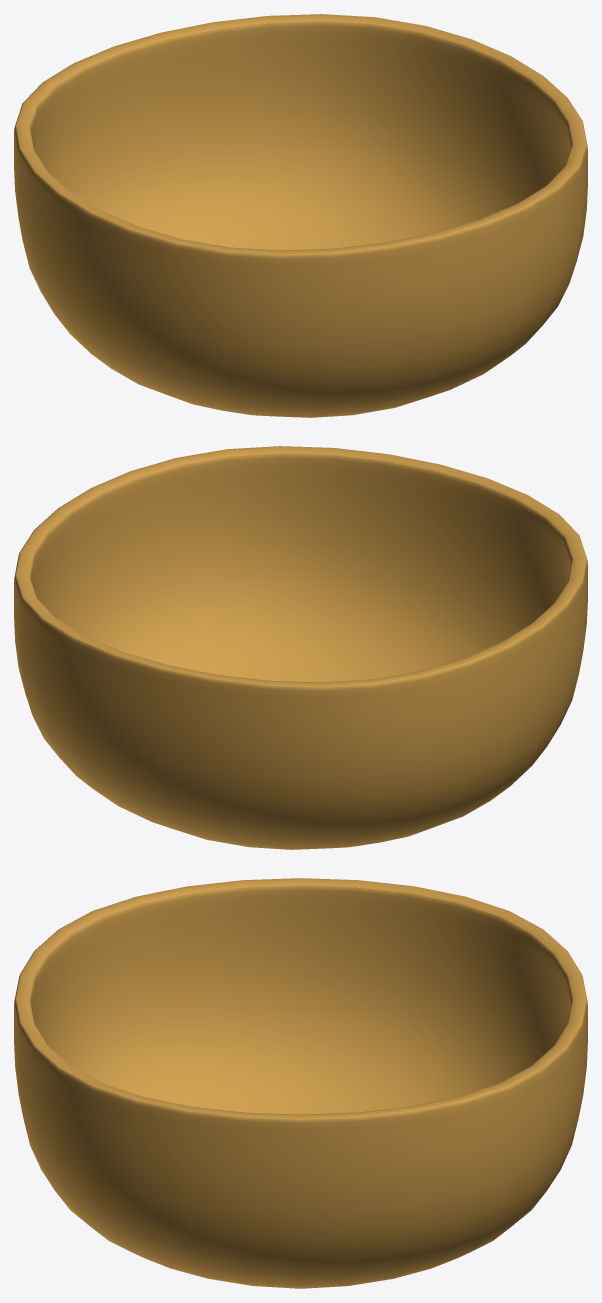
File: cinija 1.fbx
3 renders of one model, top to bottom at view 1: azimuth 30°, elevation 25°; view 2: azimuth 150°, elevation 25°; view 3: azimuth 270°, elevation 25°, orthographic. The views are drawn at different scales.
Visible parts, largest first — view 1: pCube5; view 2: pCube5; view 3: pCube5.
Boxes of the visible parts, bbox=[...] form: pCube5: bbox=[14, 14, 587, 417]; pCube5: bbox=[14, 446, 587, 849]; pCube5: bbox=[14, 878, 587, 1288].
Bounding box in the file's own units: 2.62 × 1.21 × 2.62.
